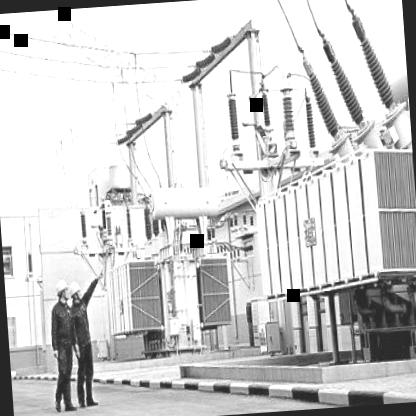helmet: (68, 280, 84, 308), (55, 277, 71, 304)
